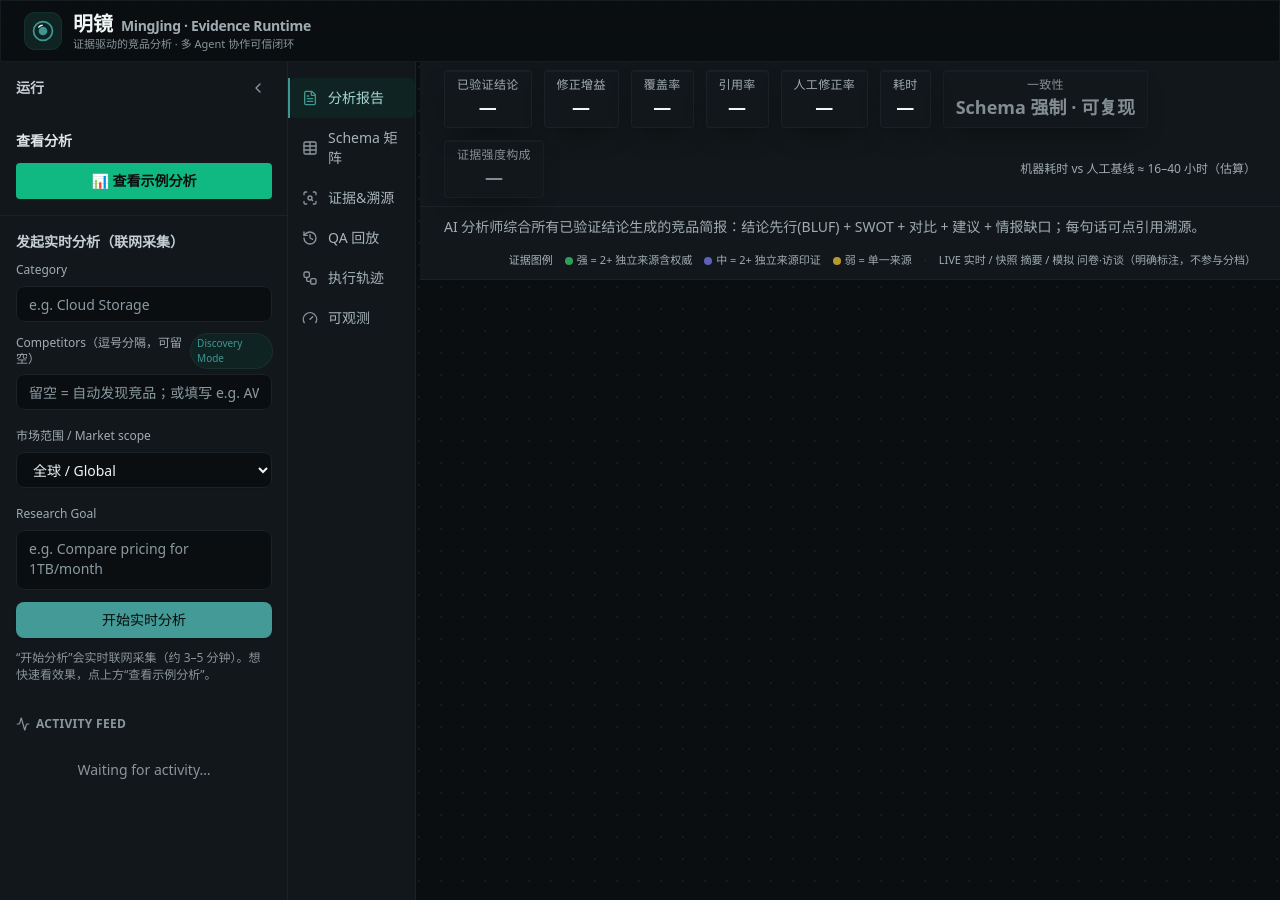
App nav › clicking 证据&溯源 shows the EvidenceAndQA no-run message
Click the button with test id "nav-evidence" at point(352, 198), box [288,178,415,218]
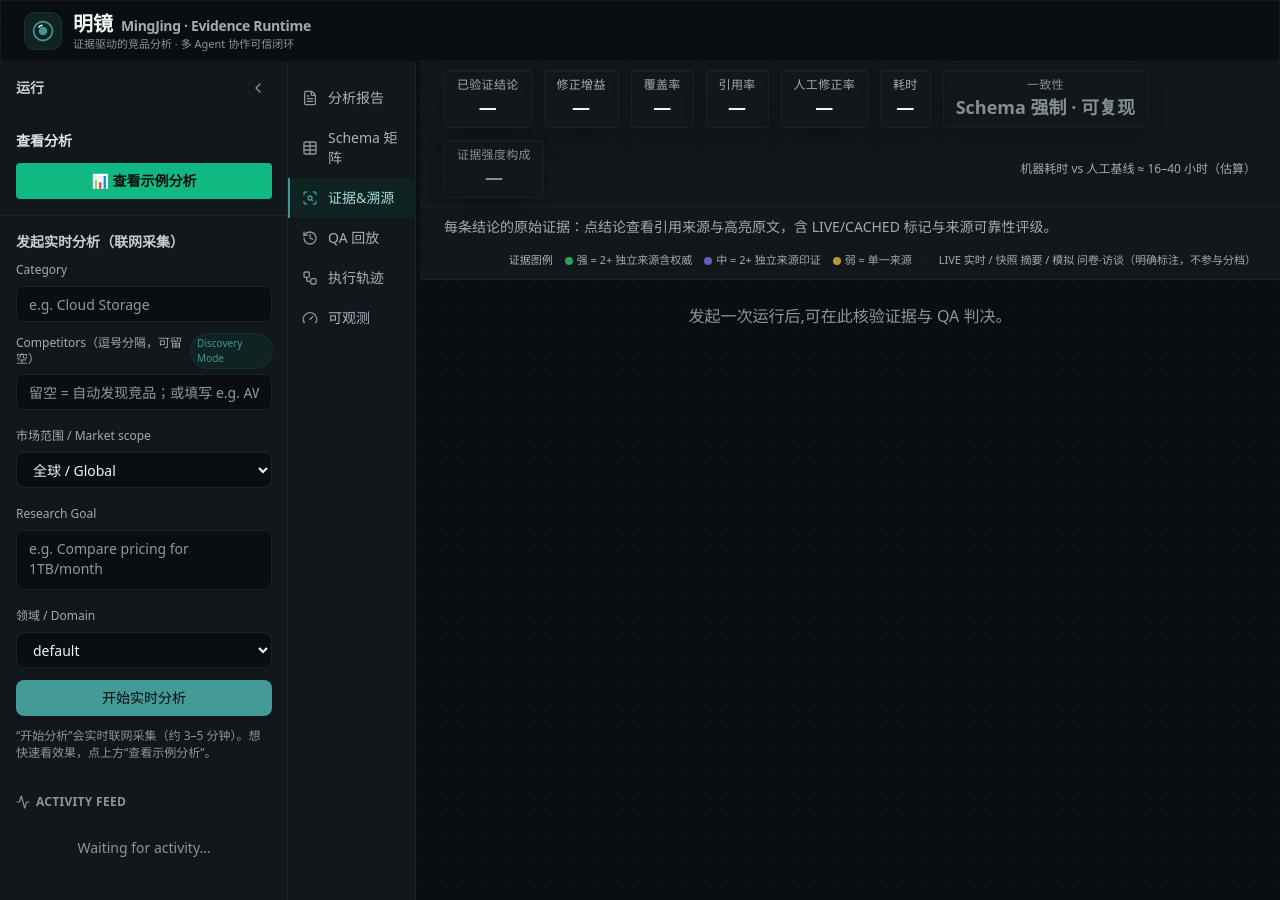
Now the text "发起一次运行后,可在此核验证据与 QA 判决。" is shown, box [688,305,1012,327]
